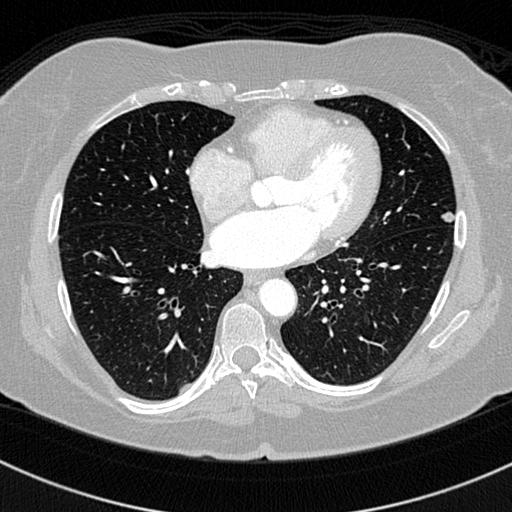nodule: (439, 209, 456, 226)
